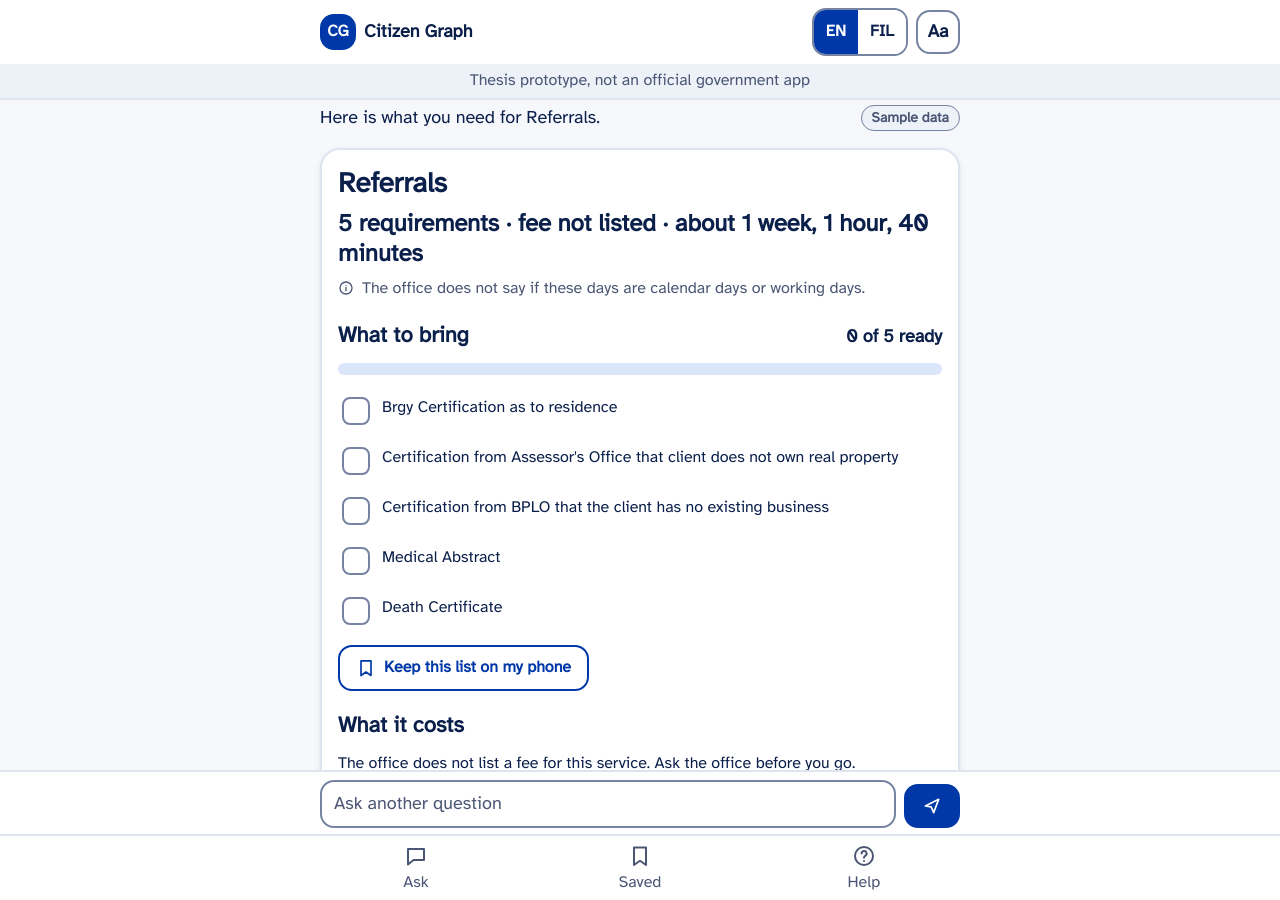
Scenario: Filipino time display › shows step times and the summary with Filipino units, numbers unchanged
(page scrolled)
Click the button with aria-label "Filipino".
click(882, 32)  # box top-left (858, 10), bottom-right (906, 54)
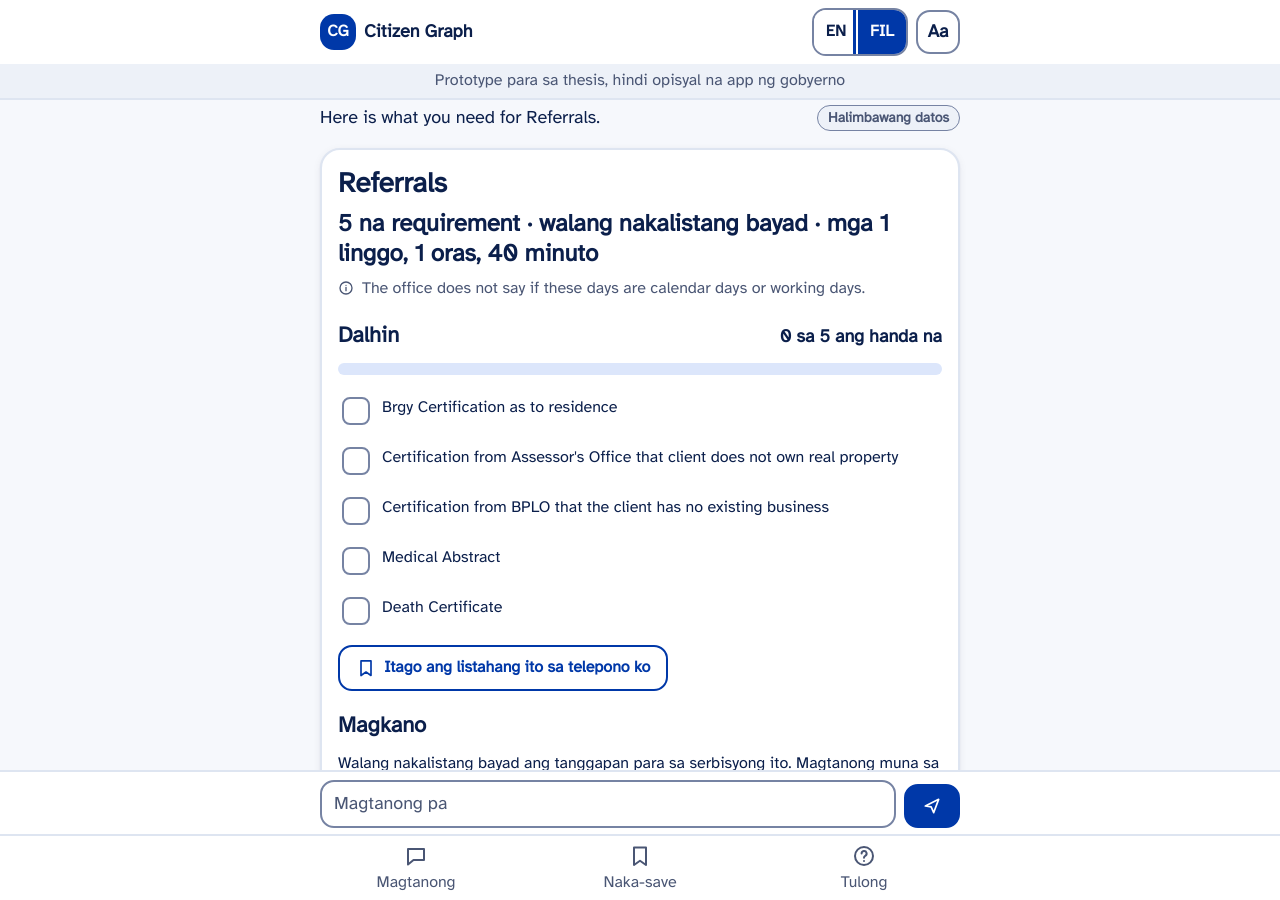
Now the text "5 na requirement · walang nakalistang bayad · mga 1 linggo, 1 oras, 40 minuto" is shown, box top-left (338, 208), bottom-right (942, 268)
